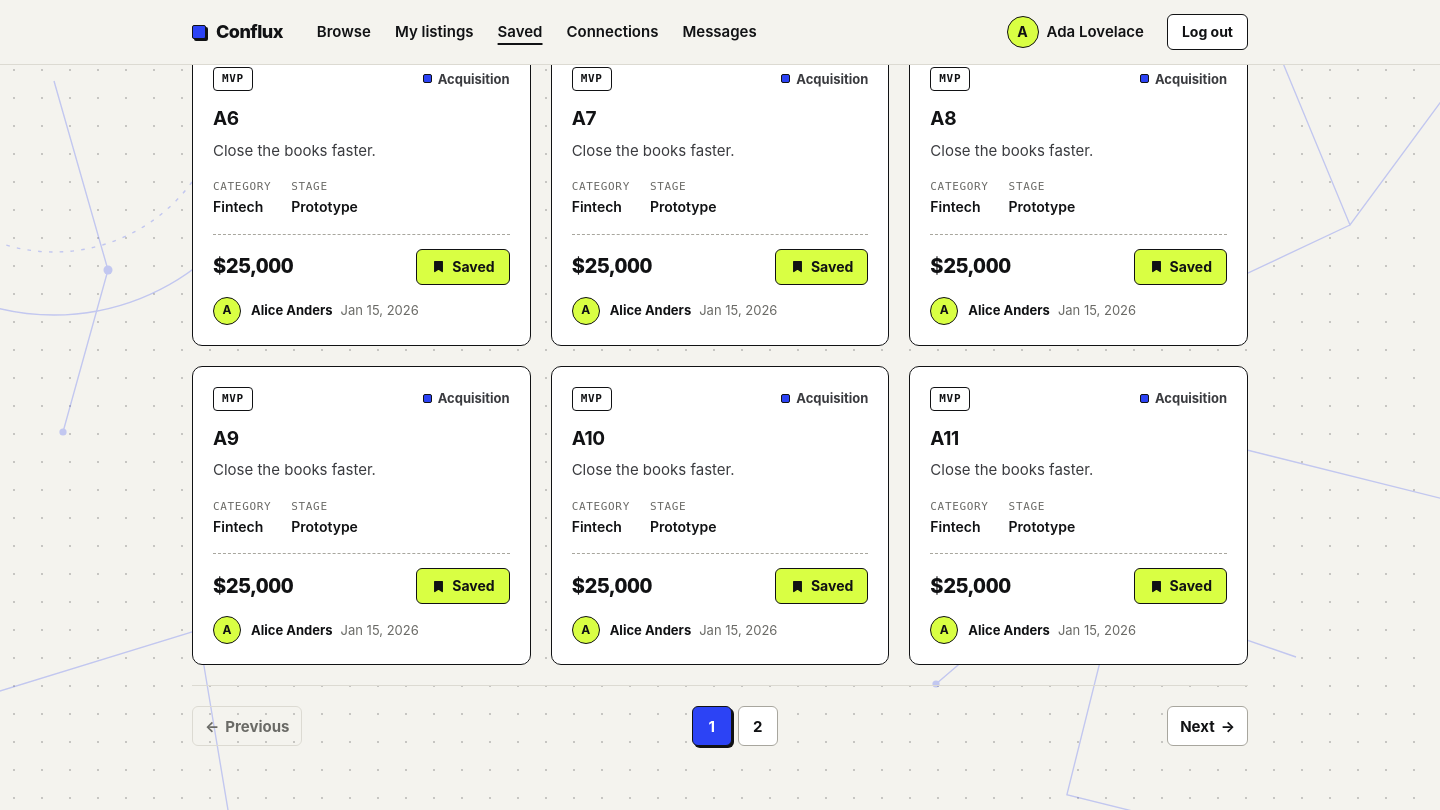
it: Saved listings page › paginates with the backend page metadata
(page scrolled)
Click the link "Next →". click: point(1208, 726)
box: [1167,706,1248,746]
(page scrolled)
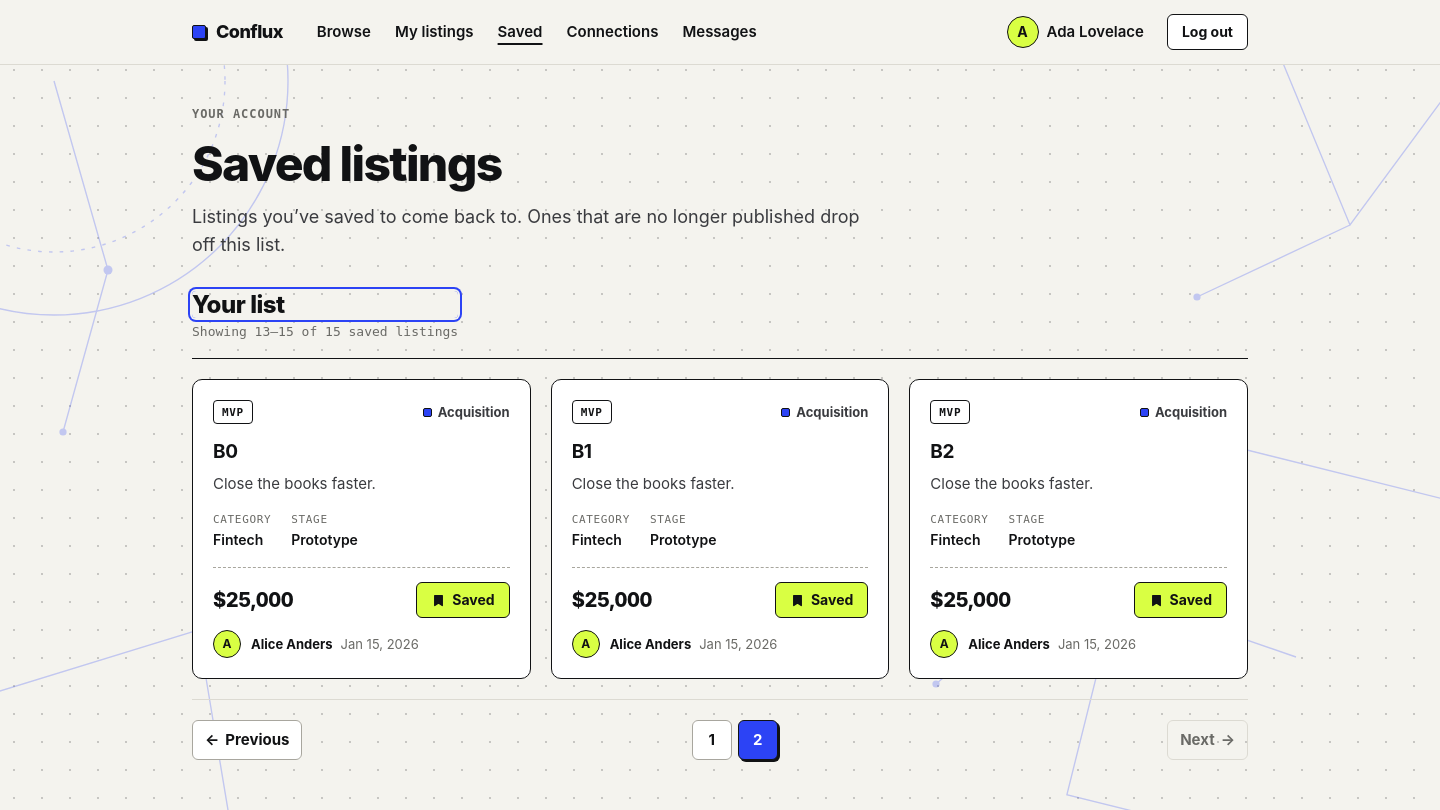
Expected: the heading "B0" is shown, [213,440,238,463]
Expected: the message reads "Showing 13–15 of 15 saved listings", [192,324,458,339]
